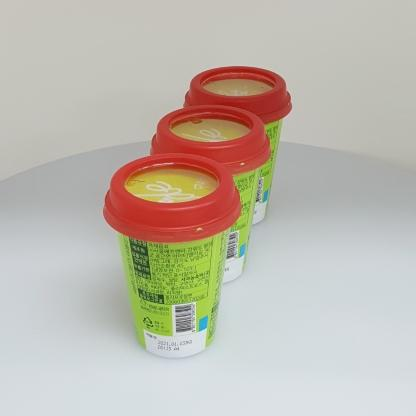--------: (103, 153, 241, 357)
